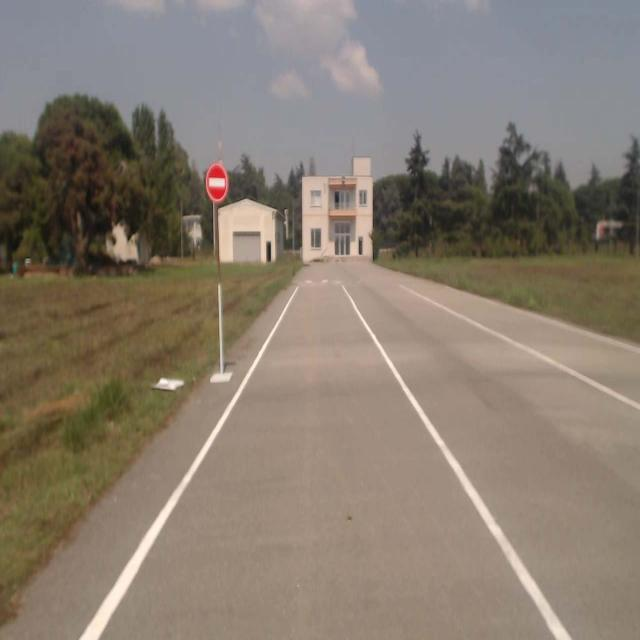girisyok: (205, 165, 227, 199)
